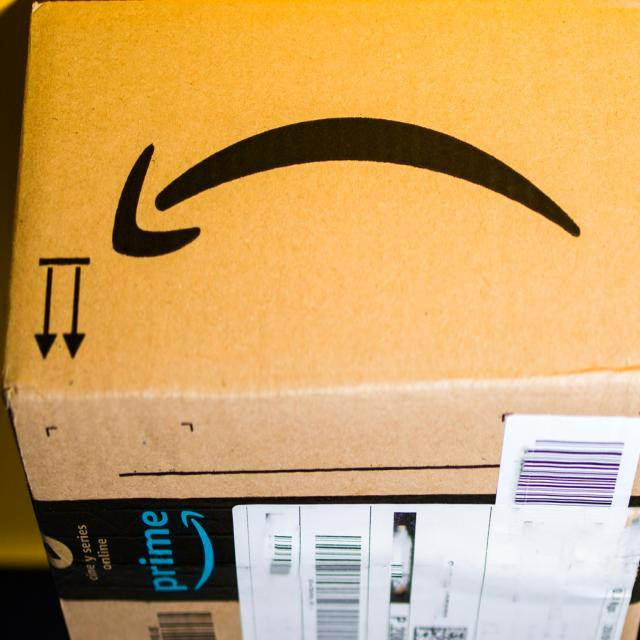Cardboard Box: (0, 1, 640, 640)
